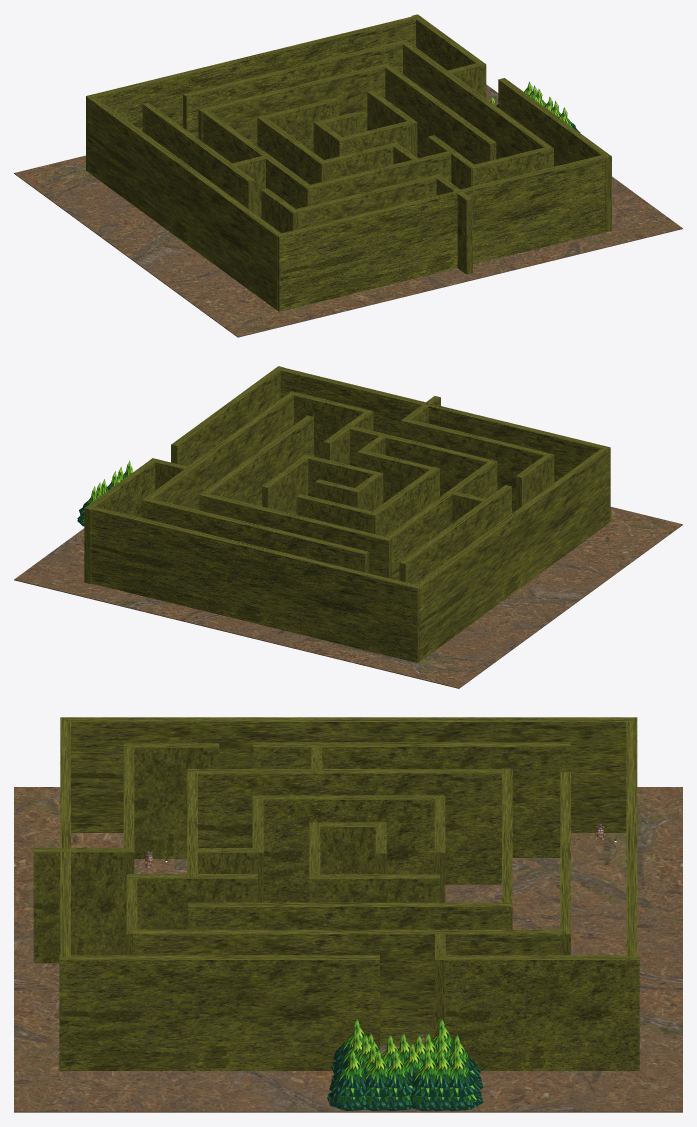
Rendered from M_MiniGame1.fbx.
The picture shows the model from 3 angles, top to bottom: view 1: azimuth 30°, elevation 25°; view 2: azimuth 150°, elevation 25°; view 3: azimuth 270°, elevation 25°; orthographic projection. The views are drawn at different scales.
Visible parts, largest first — view 1: Cube3, Cube28, Cube, Cube2, Cube24, Cube17, Cube22, Cube23, Cube4, Cube19, Cube21, Cube13 (+15 smaller); view 2: Cube2, Cube28, Cube, Cube3, Cube22, Cube17, Cube24, Cube23, Cube19, Cube4, Cube9, Cube21 (+14 smaller); view 3: Cube28, Cube4, Cube, Cube5, Cube21, Cube17, Cube19, Cube25, Cube11, Cube23, Cube10, Cube12 (+21 smaller).
Part boxes in pixels (<box>): Cube3: <box>277,155,607,311</box>; Cube28: <box>14,84,682,337</box>; Cube: <box>87,97,282,310</box>; Cube2: <box>86,16,418,170</box>; Cube24: <box>198,63,388,145</box>; Cube17: <box>402,42,549,158</box>; Cube22: <box>183,39,408,138</box>; Cube23: <box>383,63,496,164</box>; Cube4: <box>498,78,611,232</box>; Cube19: <box>142,102,254,213</box>; Cube21: <box>202,110,311,208</box>; Cube13: <box>306,150,453,205</box>; Cube2: <box>89,506,420,662</box>; Cube28: <box>14,507,682,688</box>; Cube: <box>414,447,609,661</box>; Cube3: <box>278,367,610,522</box>; Cube22: <box>142,497,368,573</box>; Cube17: <box>146,392,294,509</box>; Cube24: <box>199,492,392,578</box>; Cube23: <box>203,415,313,506</box>; Cube19: <box>399,485,511,584</box>; Cube4: <box>171,366,284,466</box>; Cube9: <box>401,418,548,513</box>; Cube21: <box>385,460,497,580</box>; Cube28: <box>14,787,682,1112</box>; Cube4: <box>59,955,379,1070</box>; Cube: <box>65,717,632,832</box>; Cube5: <box>439,955,639,1070</box>; Cube21: <box>187,769,504,884</box>; Cube17: <box>133,929,562,1045</box>; Cube19: <box>253,742,570,857</box>; Cube25: <box>252,795,444,902</box>; Cube11: <box>33,847,129,963</box>; Cube23: <box>188,902,510,929</box>; Cube10: <box>123,743,219,858</box>; Cube12: <box>127,874,257,929</box>.
Bounding box in the file's own units: 7112 × 6064 × 1127.
